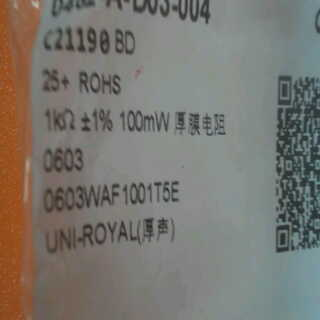1kR: (41, 102, 79, 140)
